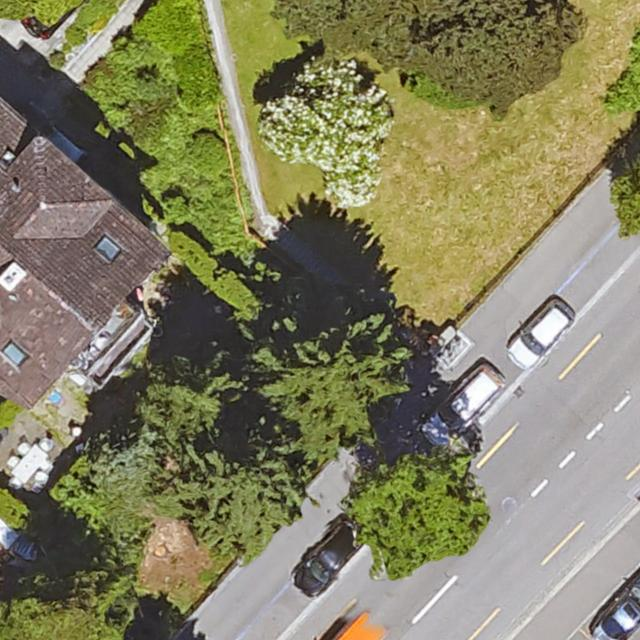tree: (273, 0, 586, 98), (255, 314, 413, 452), (351, 449, 487, 579), (178, 414, 304, 554), (264, 57, 390, 181), (131, 360, 238, 443), (0, 574, 134, 640), (90, 421, 155, 488), (612, 152, 640, 238)
